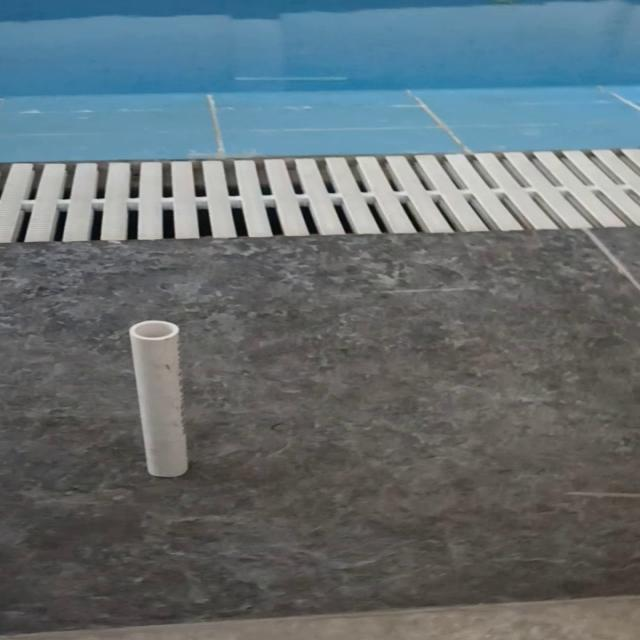Cube: (127, 319, 189, 477)
